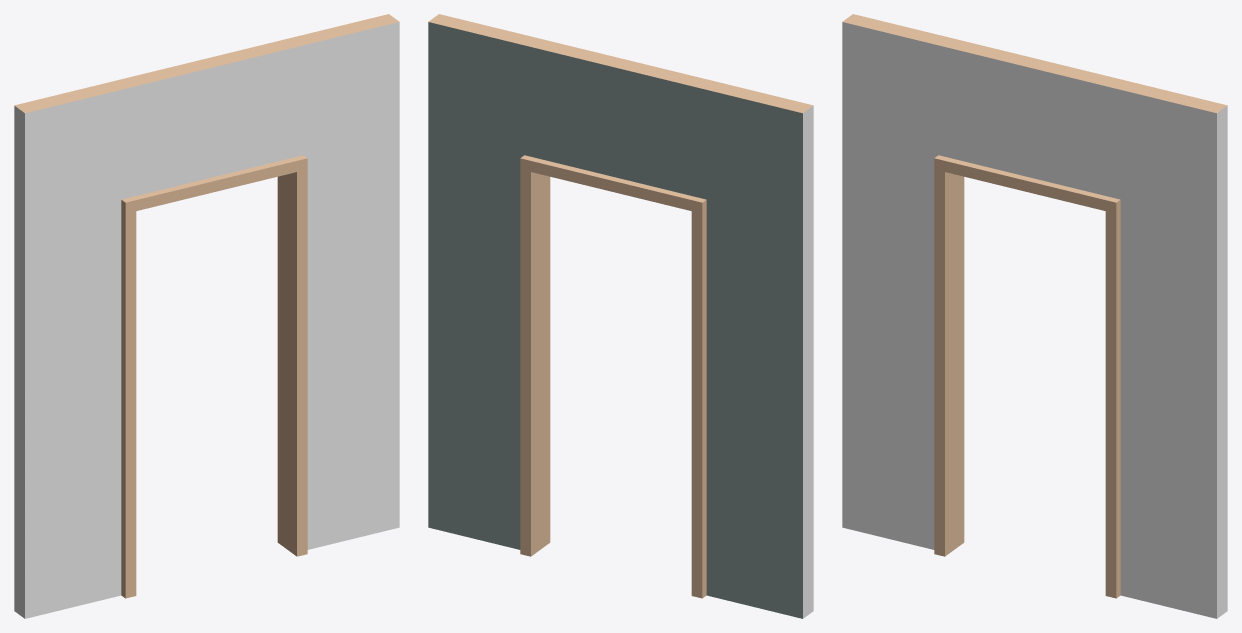
Rendered from wallDoorway.glb.
3 renders of one model, left to right at view 1: azimuth 30°, elevation 25°; view 2: azimuth 150°, elevation 25°; view 3: azimuth 330°, elevation 25°, orthographic.
Visible parts, largest first — view 1: wallDoorway(Clone); view 2: wallDoorway(Clone); view 3: wallDoorway(Clone).
Part boxes in pixels (left/top/right/bottom): wallDoorway(Clone): left=14, top=14, right=399, bottom=618; wallDoorway(Clone): left=428, top=14, right=813, bottom=618; wallDoorway(Clone): left=842, top=14, right=1227, bottom=618.
Bounding box in the file's own units: 2.03 × 2.62 × 0.1809.
Materials: 3 (3 with a texture image).
